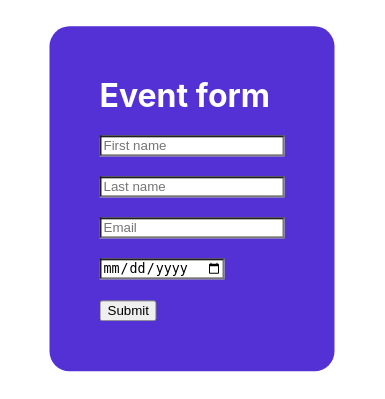
Test case: App › should display matching error when first name is invalid
Type "Jan345" into the field with placeholder "First name" at (192, 146), box top-left (100, 135), bottom-right (284, 156)
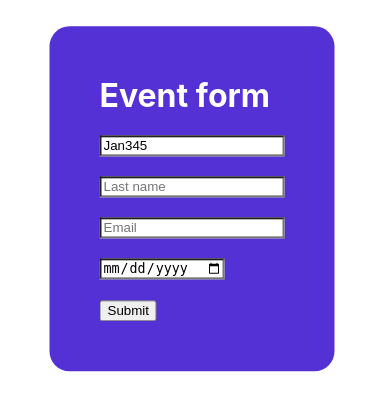
Type "Kowalski" into the field with placeholder "Last name" at (192, 187), box top-left (100, 176), bottom-right (284, 197)
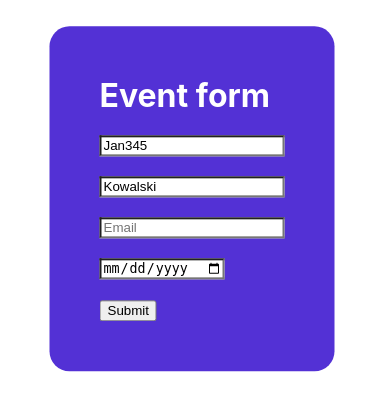
Type "test@test.com" into the field with placeholder "Email" at (192, 228), box top-left (100, 217), bottom-right (284, 238)
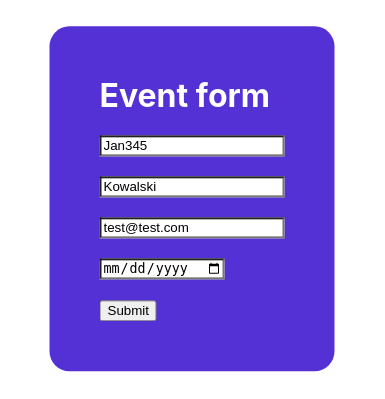
Type "2021-07-25" into the date field with placeholder "Date" at (162, 269), box top-left (100, 258), bottom-right (225, 280)
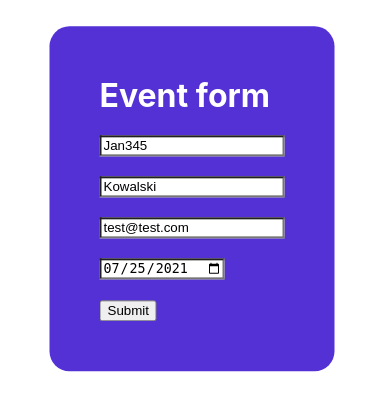
Submit the form from the button, box top-left (100, 301), bottom-right (157, 322)
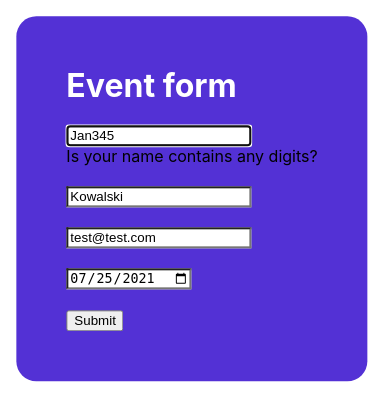
Check: the number of messages is 1, box top-left (66, 146), bottom-right (318, 166)
